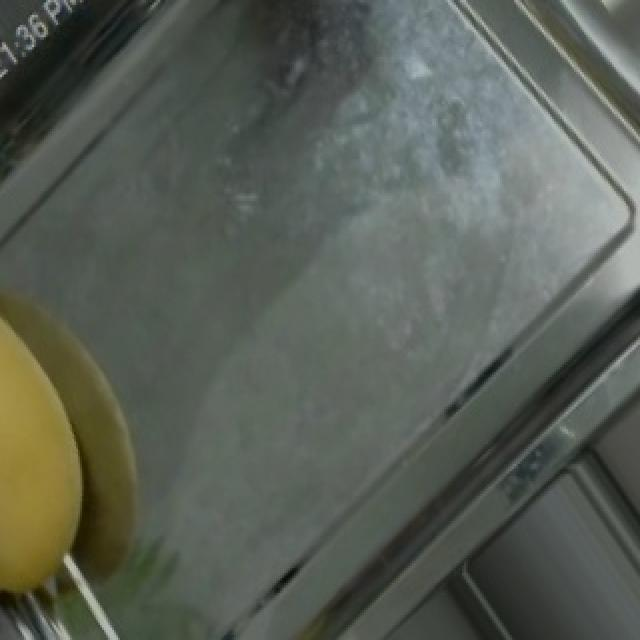fruit: (0, 258, 144, 625)
